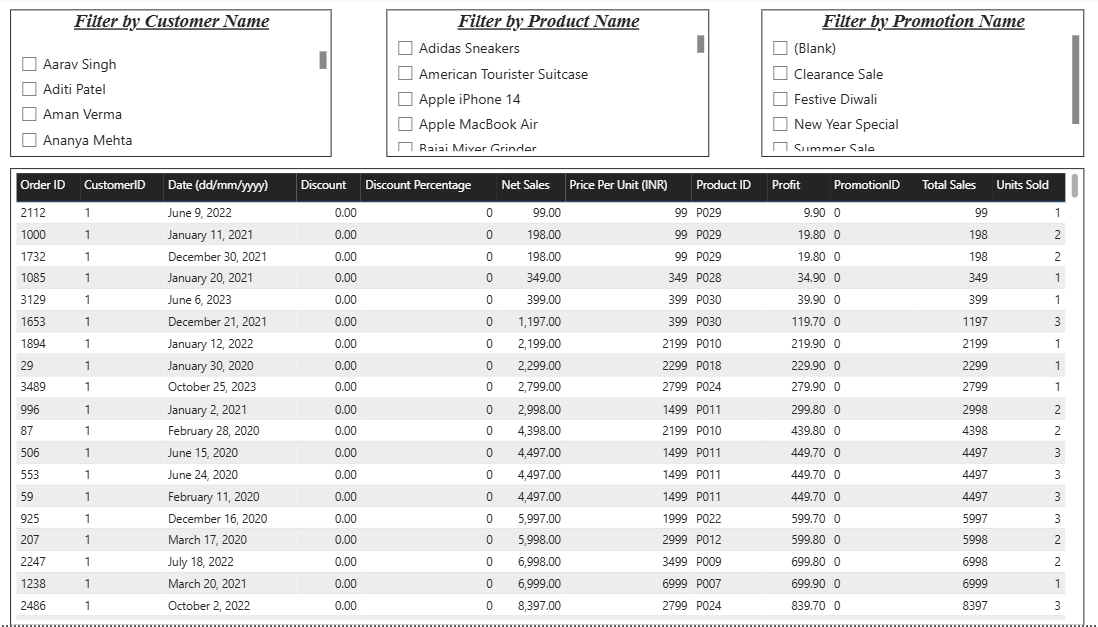

What the dashboard file says about the page in this screenshot:
{"tool":"powerbi","page":{"name":"Filters","canvas":[1280,720],"ordinal":3},"visuals":[{"type":"tableEx","fields":{"Values":["Fact Table.Order ID","Fact Table.CustomerID","Fact Table.Date (dd/mm/yyyy)","Fact Table.Discount","Fact Table.Discount Percentage","Fact Table.Net Sales  ","Fact Table.Price Per Unit (INR)","Fact Table.Product ID","Fact Table.Profit","Fact Table.PromotionID","Fact Table.Total Sales","Fact Table.Units Sold"]},"box":[24.3,196.2,1230.2,524.1],"z":0},{"type":"slicer","title":"Filter by Customer Name","fields":{"Values":["Dim Customers.Customer Name"]},"box":[24.3,14.3,368,169],"z":1},{"type":"slicer","title":"Filter by Product Name","fields":{"Values":["Dim Product.Product Name"]},"box":[455.4,14.3,369.5,169],"z":2},{"type":"slicer","title":"Filter by Promotion Name","fields":{"Values":["Dim Promotion.Promotion Name"]},"box":[885,14.3,369.5,169],"z":3}]}

Visuals, with their boxes in screenshot pixels (x1, y1, x2, y2), scaled from the page's 1280x720 canvas onto the 1098x627 screenshot:
tableEx - Fact Table.Order ID x Fact Table.CustomerID: {"x1": 21, "y1": 171, "x2": 1076, "y2": 626}
"Filter by Customer Name" slicer: {"x1": 21, "y1": 12, "x2": 337, "y2": 160}
"Filter by Product Name" slicer: {"x1": 391, "y1": 12, "x2": 708, "y2": 160}
"Filter by Promotion Name" slicer: {"x1": 759, "y1": 12, "x2": 1076, "y2": 160}
